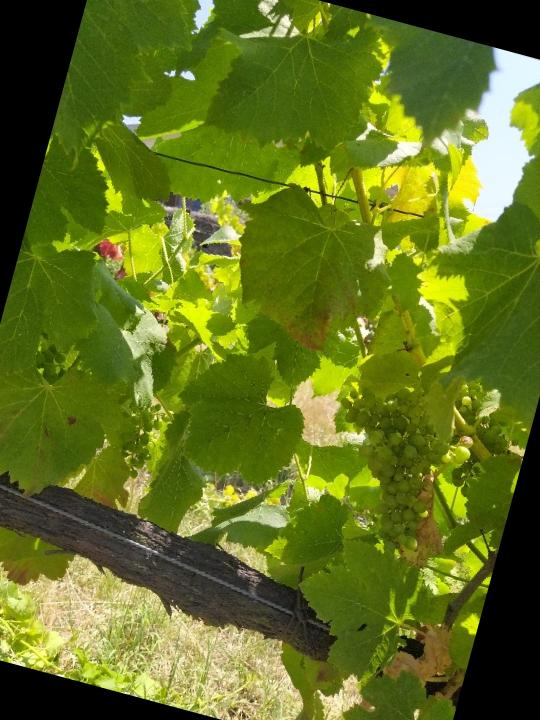grape: (306, 371, 485, 570), (105, 396, 175, 486)
